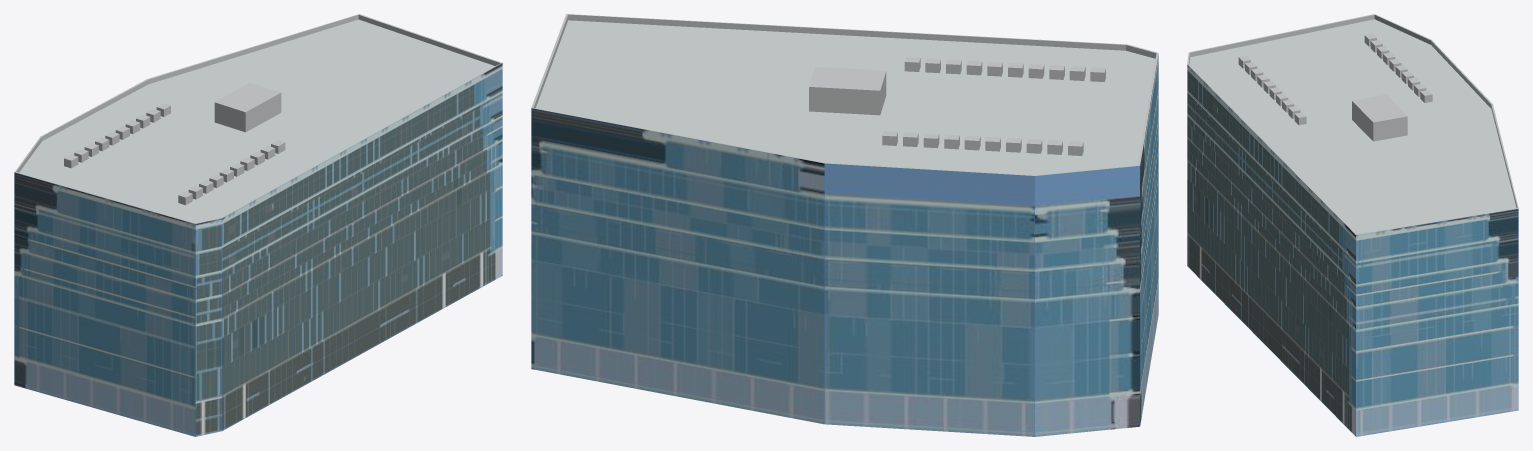
The picture shows the model from 3 angles, left to right: view 1: azimuth 30°, elevation 25°; view 2: azimuth 150°, elevation 25°; view 3: azimuth 270°, elevation 25°; orthographic projection. The views are drawn at different scales.
Parts seen in each view (by area): view 1: 1424945037; view 2: 1424945037; view 3: 1424945037.
Boxes of the visible parts, x1,y1,x2,y2 form: 1424945037: (14,14,502,436); 1424945037: (531,14,1158,436); 1424945037: (1187,14,1518,436).
Size of the model in its own units: 84.59 by 38.6 by 53.6.
3 materials, 1 textured.
